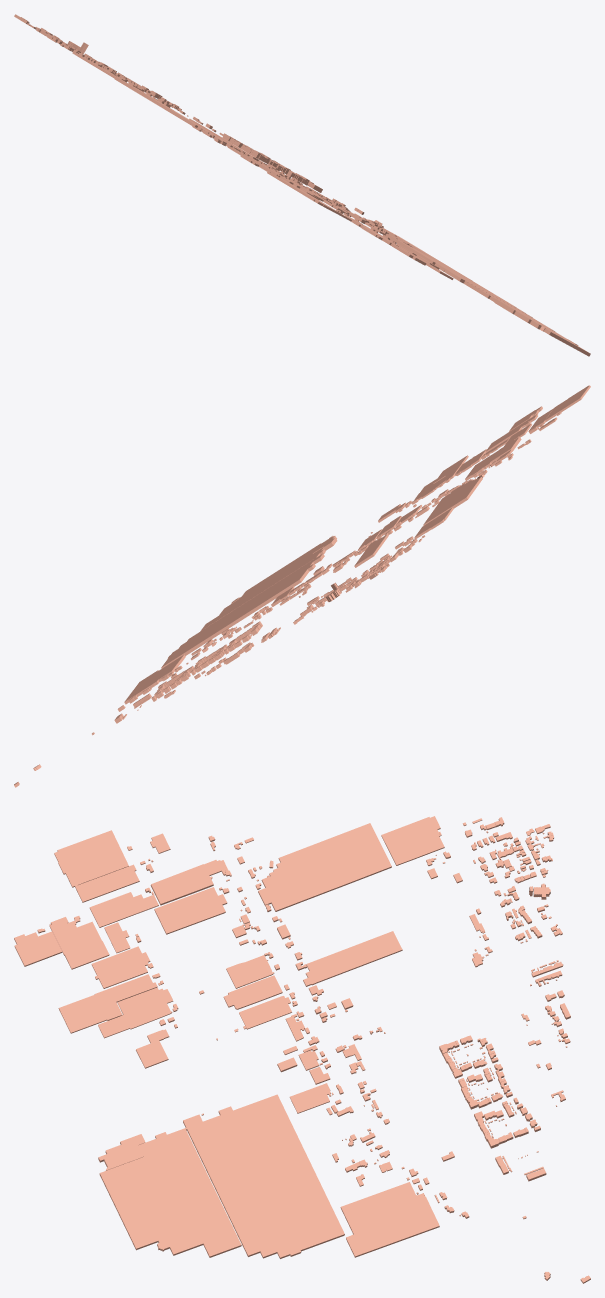
The picture shows the model from 3 angles, top to bottom: view 1: azimuth 30°, elevation 25°; view 2: azimuth 150°, elevation 25°; view 3: azimuth 270°, elevation 25°; orthographic projection. The views are drawn at different scales.
Bounding box in the file's own units: 931 × 743 × 1310.
